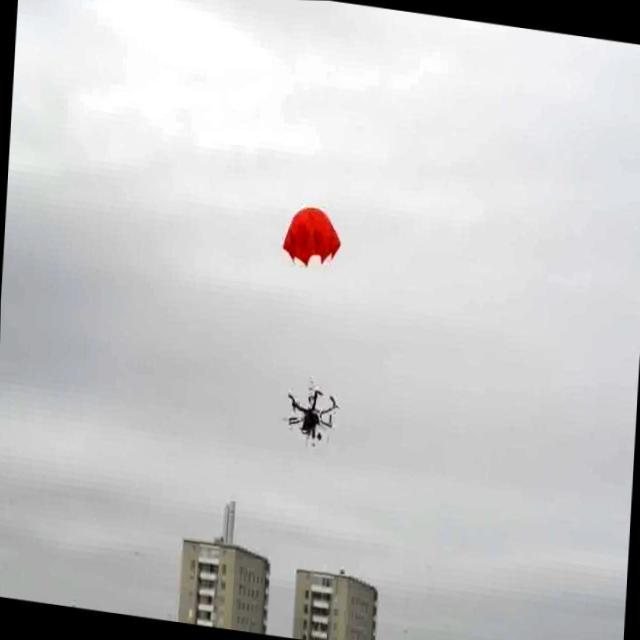drone: (282, 381, 339, 454)
